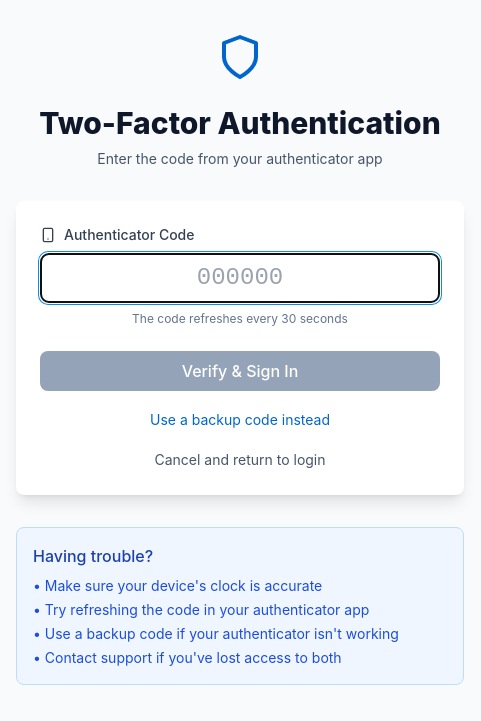
Test case: TwoFactorVerification › Backup Code Input › switches back to authenticator mode
This screenshot has width=481, height=721.
Click the button "Use a backup code instead".
click(240, 420)  # box top-left (150, 410), bottom-right (330, 430)
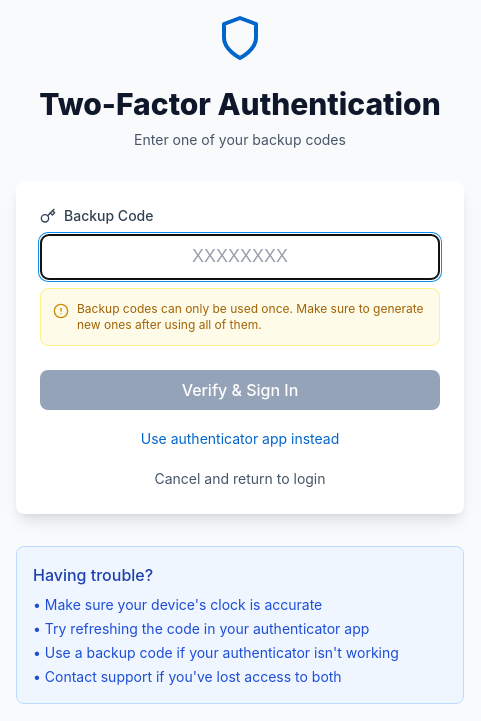
Click the button "Use authenticator app instead".
click(240, 439)  # box top-left (141, 429), bottom-right (339, 449)
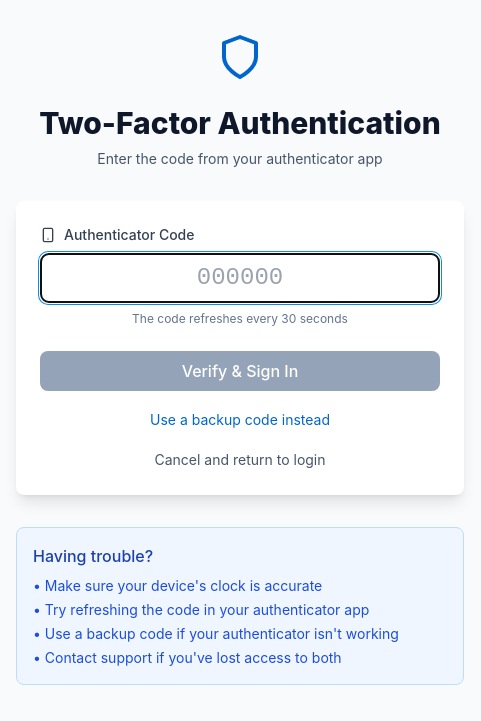
Result: the text "Enter the code from your authenticator app" is shown at top-left (97, 150), bottom-right (383, 167)
Result: the field labelled "Authenticator Code" is shown at top-left (40, 253), bottom-right (440, 303)
